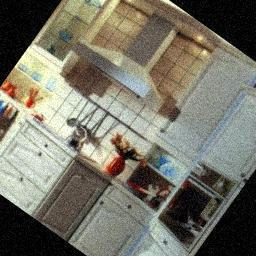Electrodomestico: (151, 159, 240, 256)
